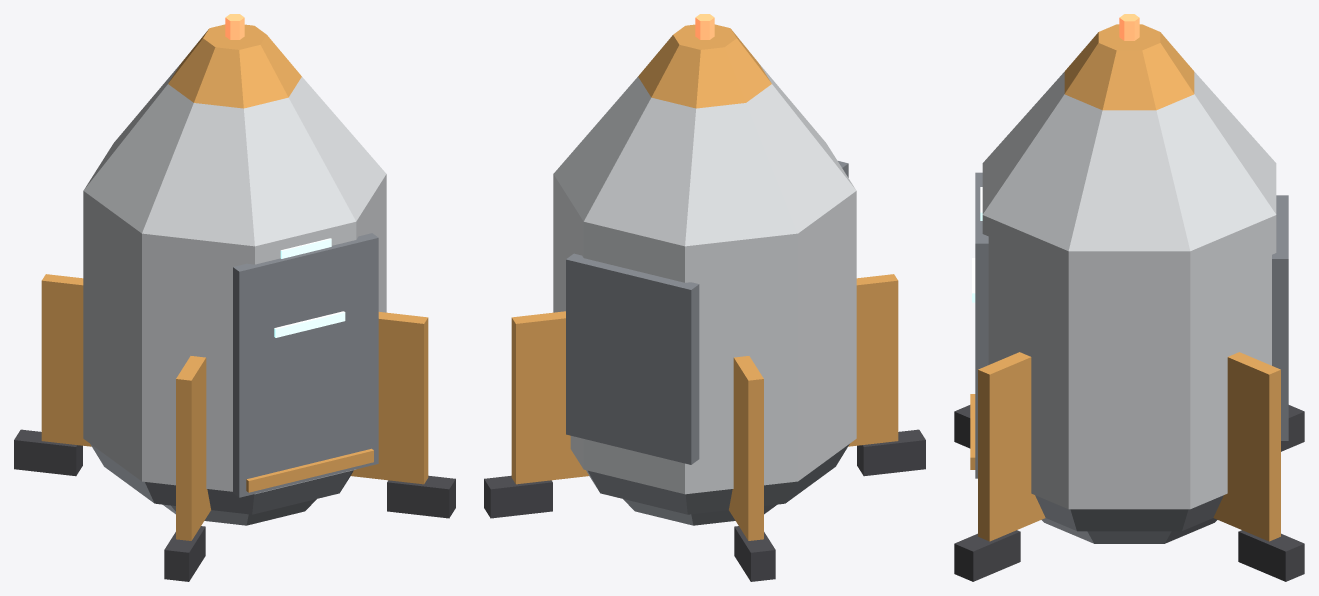
Rendered from drop-pod.glb.
The picture shows the model from 3 angles, left to right: view 1: azimuth 30°, elevation 25°; view 2: azimuth 150°, elevation 25°; view 3: azimuth 270°, elevation 25°; orthographic projection. The views are drawn at different scales.
Visible parts, largest first — view 1: body, door, thruster; view 2: body, thruster; view 3: body, door, thruster.
Part boxes in pixels (x1=…): body: x1=14, y1=14, x2=455, y2=581; door: x1=233, y1=233, x2=378, y2=497; thruster: x1=163, y1=499, x2=316, y2=525; body: x1=484, y1=14, x2=925, y2=581; thruster: x1=623, y1=499, x2=776, y2=525; body: x1=954, y1=14, x2=1304, y2=581; door: x1=970, y1=172, x2=988, y2=478; thruster: x1=1041, y1=518, x2=1217, y2=543.
Bounding box in the file's own units: 2.09 × 3.26 × 2.09.
